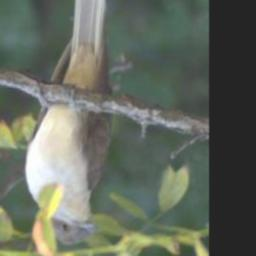Cuckoo: (24, 0, 118, 246)
